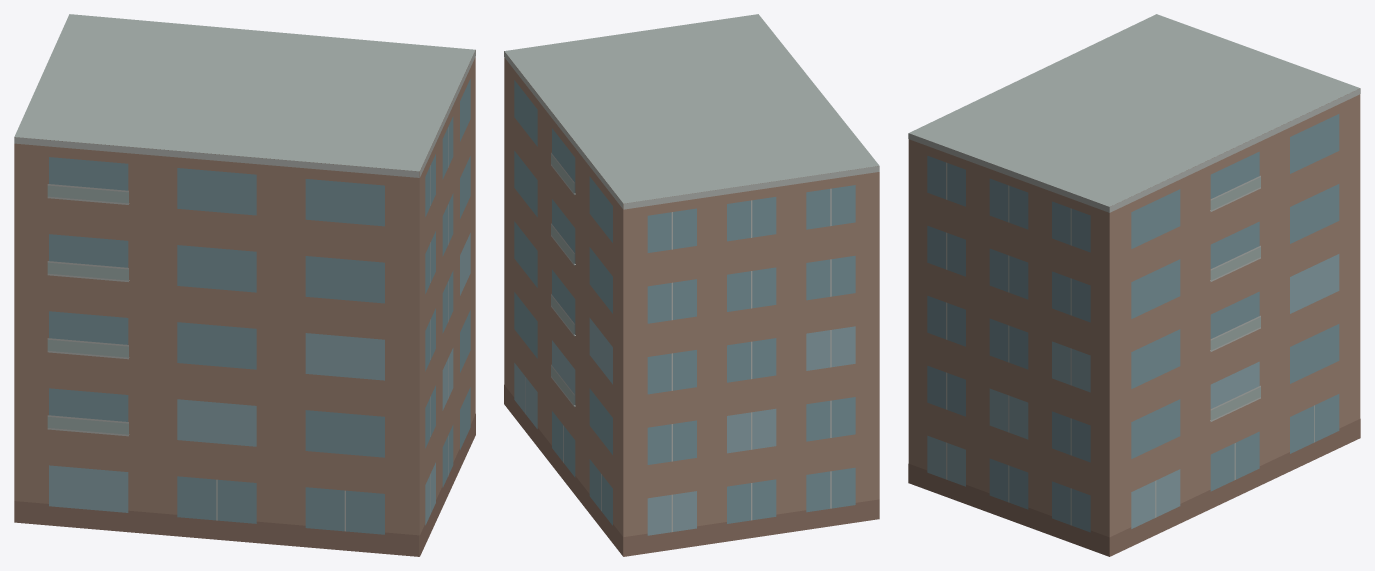
File: survey-upis-32893281.glb
3 views of the same model, side by side, from view 1: azimuth 30°, elevation 25°; view 2: azimuth 150°, elevation 25°; view 3: azimuth 270°, elevation 25° (orthographic). The views are drawn at different scales.
Visible parts, largest first — view 1: survey-upis-32893281.tmp; view 2: survey-upis-32893281.tmp; view 3: survey-upis-32893281.tmp.
Boxes of the visible parts, bbox=[...] form: survey-upis-32893281.tmp: bbox=[14, 14, 475, 556]; survey-upis-32893281.tmp: bbox=[504, 14, 879, 556]; survey-upis-32893281.tmp: bbox=[908, 14, 1360, 556].
Bounding box in the file's own units: 16.92 × 14.3 × 16.74.
